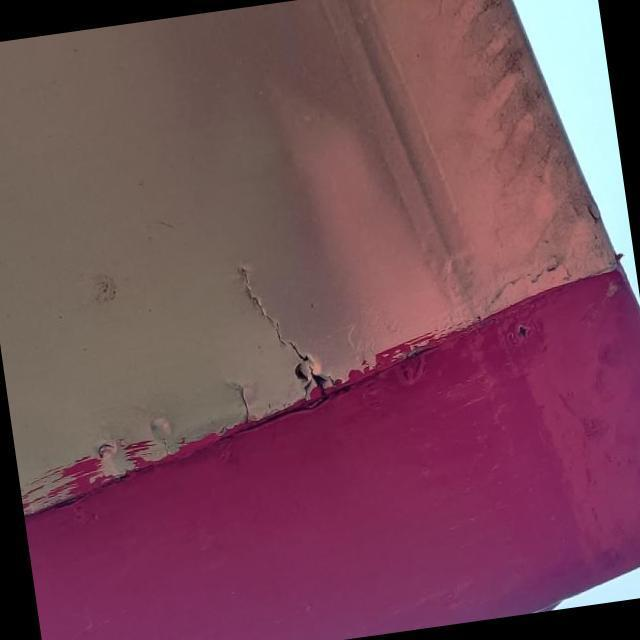Rupture: (230, 245, 350, 416), (219, 371, 266, 434)
